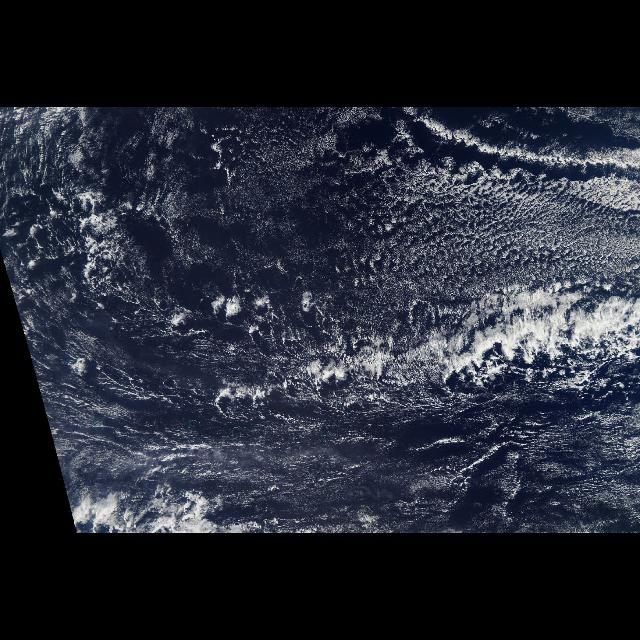Fish: (158, 270, 636, 404)
Gravel: (310, 138, 638, 316)
Sugar: (62, 117, 640, 533)
